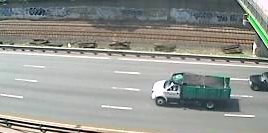car: (149, 70, 233, 112)
